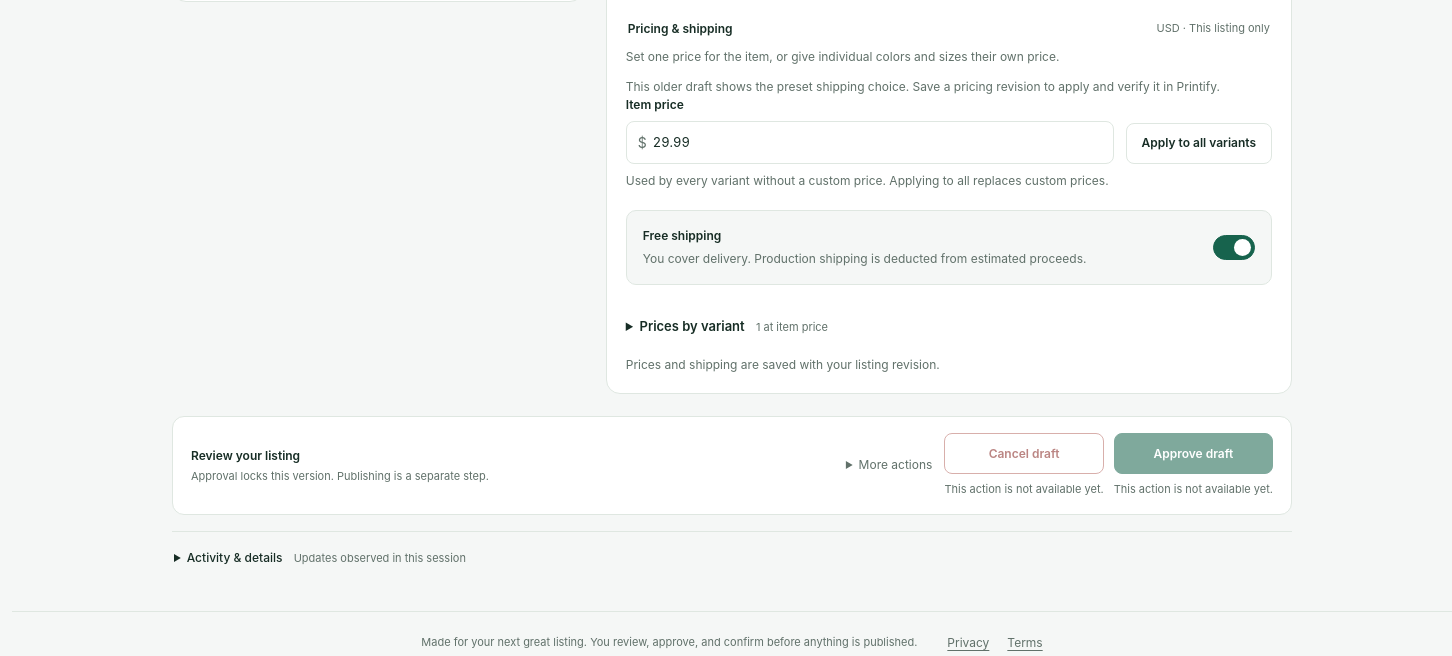
Test: secondary actions preserve listing-edit barriers › keeps refresh blocked while saving and after acceptance until authoritative readback is current
(page scrolled)
Click the heading "More actions" at coordinates (896, 465), box [859,458,932,472]
(page scrolled)
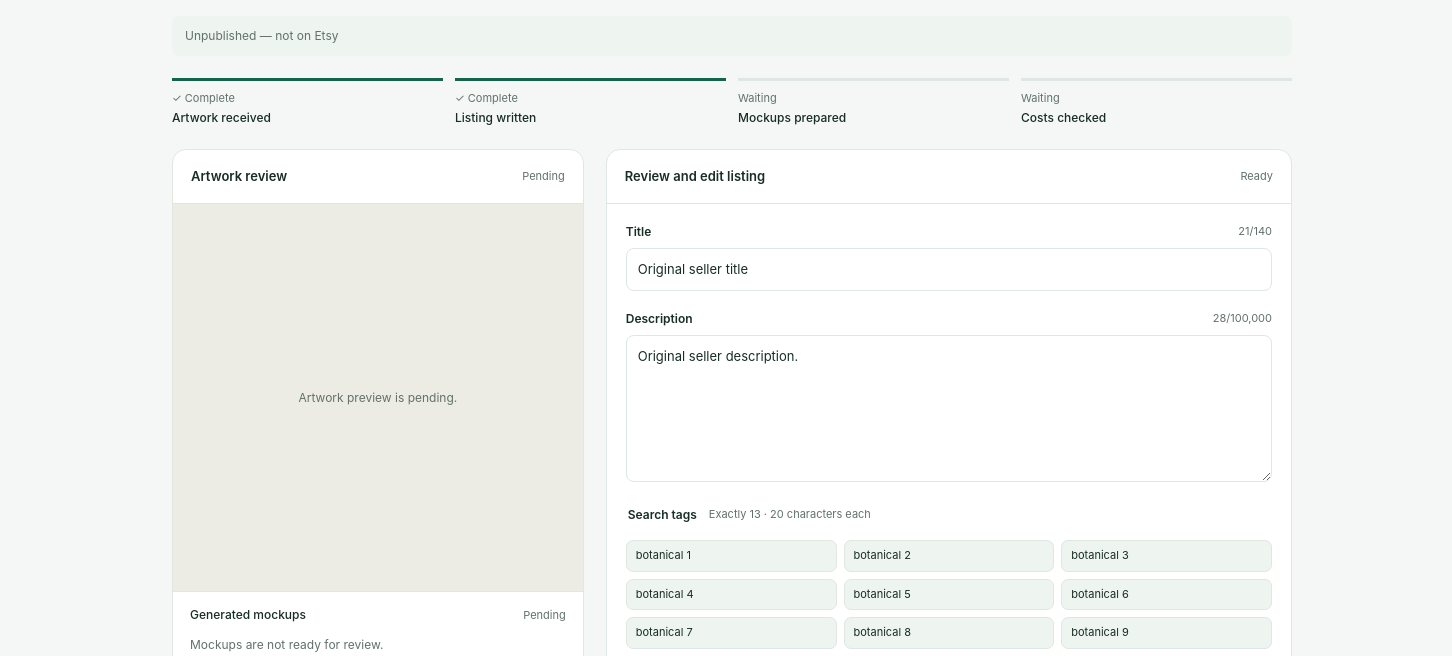
Replace the text in the field labelled "Title 21/140" with "Saved seller title" at coordinates (949, 270), box [626,248,1272,291]
(page scrolled)
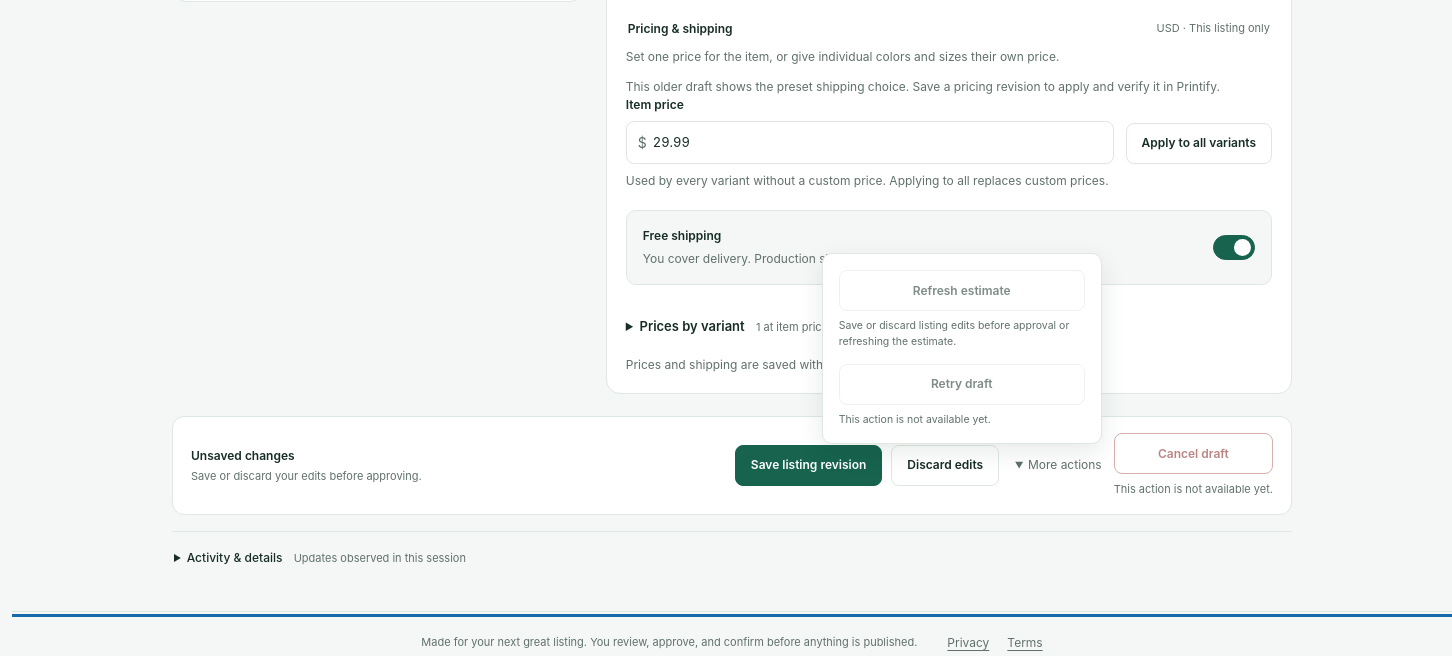
Click the button "Save listing revision" at coordinates (809, 466), box [735,445,882,486]
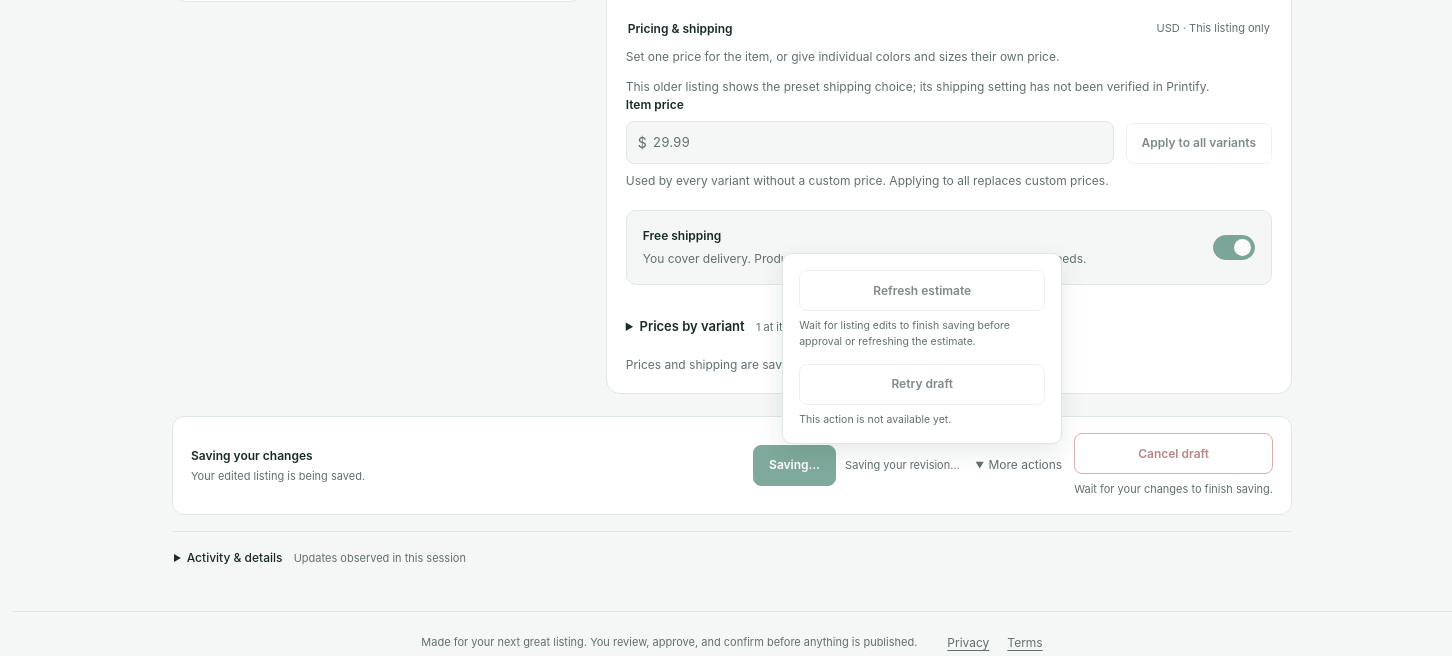
Check: the button "Refresh estimate" is disabled
Click the button "Refresh estimate" at coordinates (922, 291), box [799,270,1045,311]
(page scrolled)
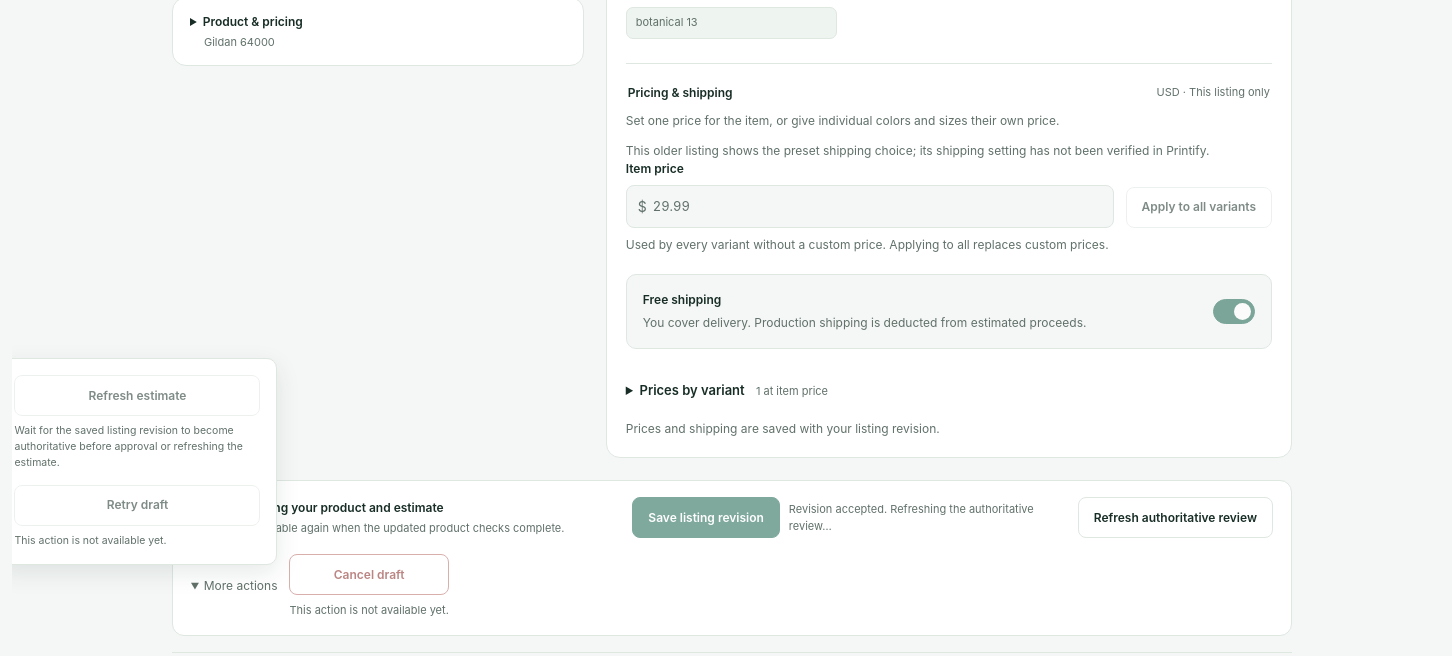
Check: the button "Refresh estimate" is disabled
Click the button "Refresh estimate" at coordinates (138, 396), box [14,376,260,416]
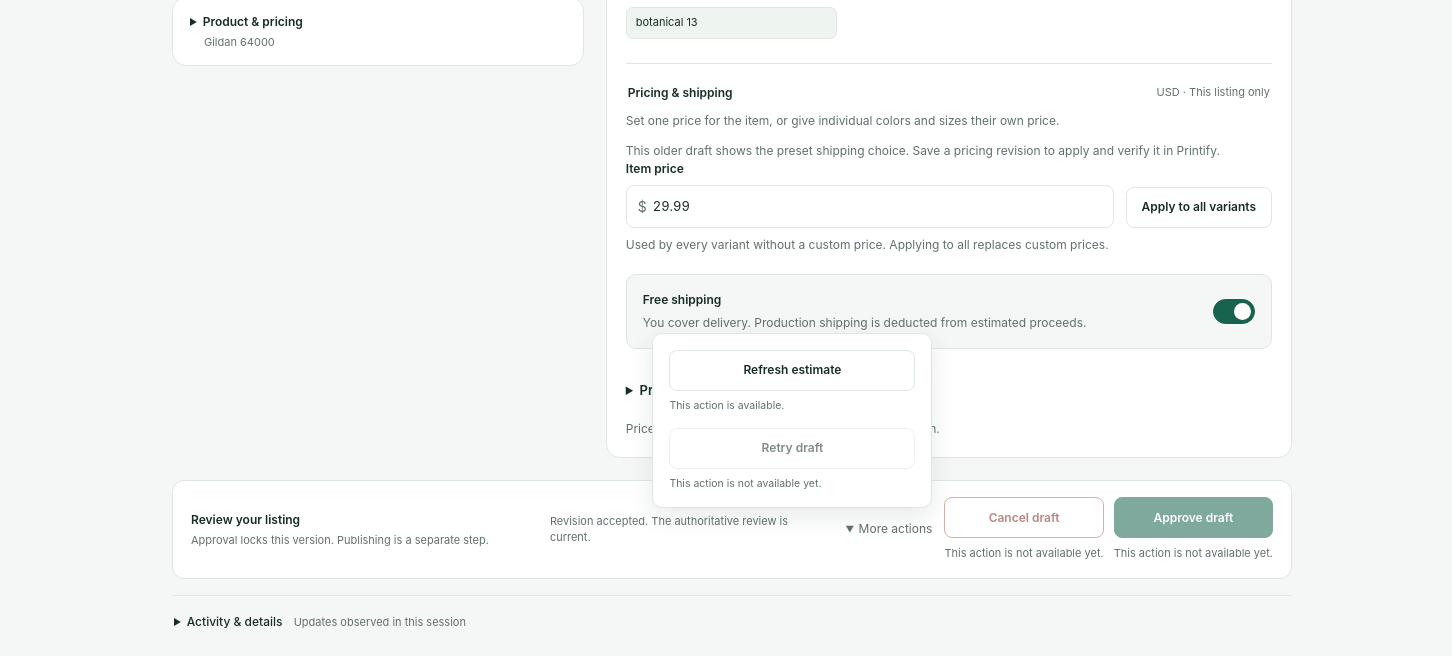
Check: the button "Refresh estimate" is enabled, box [669,350,915,391]
